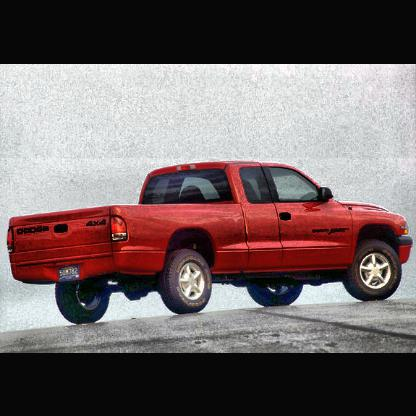Dodge Dakota Club Cab 2007: (6, 159, 416, 328)
